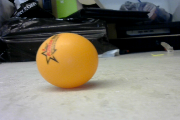PingPongBall: (36, 32, 98, 88)
